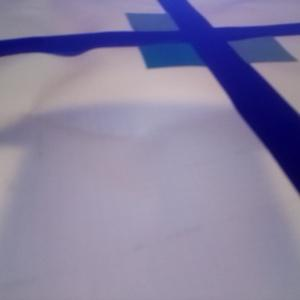bottom_left: (138, 33, 226, 68)
bottom_right: (206, 28, 297, 61)
top_left: (126, 13, 201, 40)
